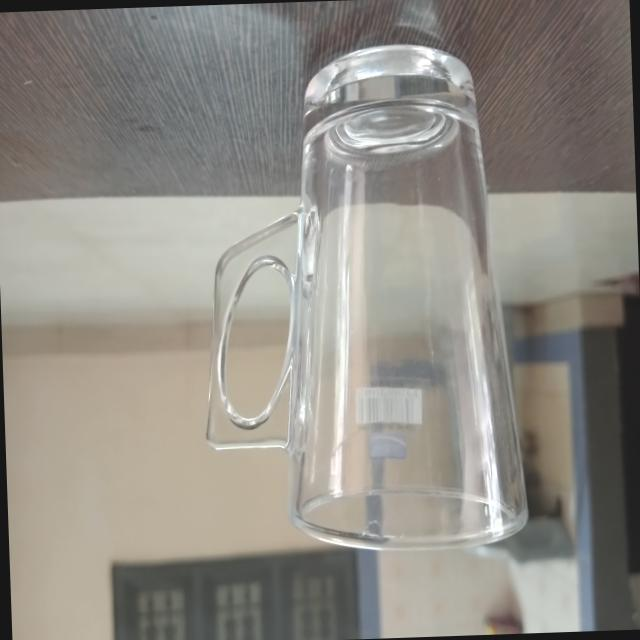glass-VX4N: (193, 38, 530, 554)
